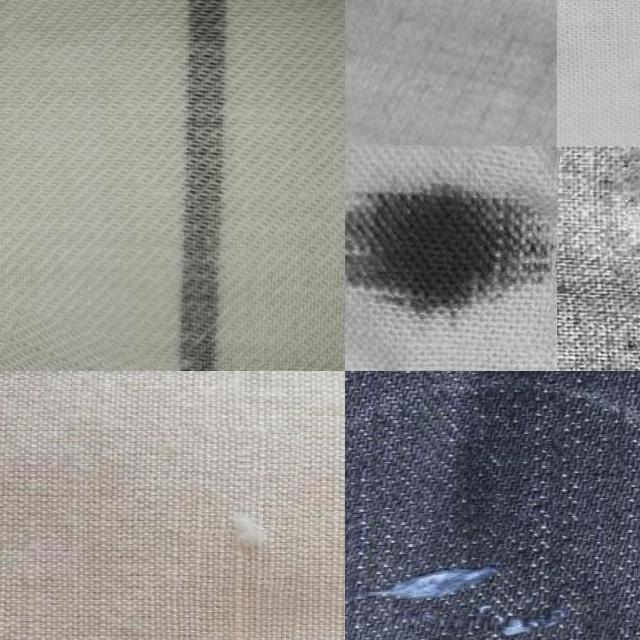Hole: (345, 144, 557, 348)
Thread_other: (346, 514, 606, 640), (161, 428, 297, 640), (0, 321, 176, 371), (222, 314, 345, 371)
